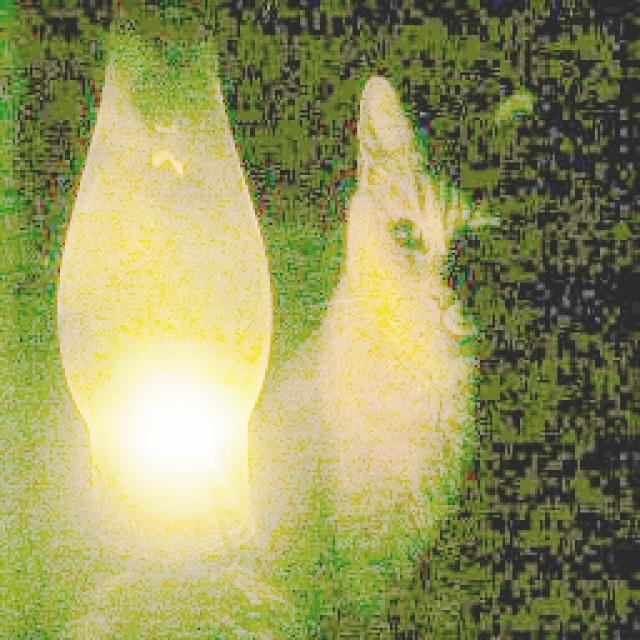cat: (276, 61, 598, 582)
